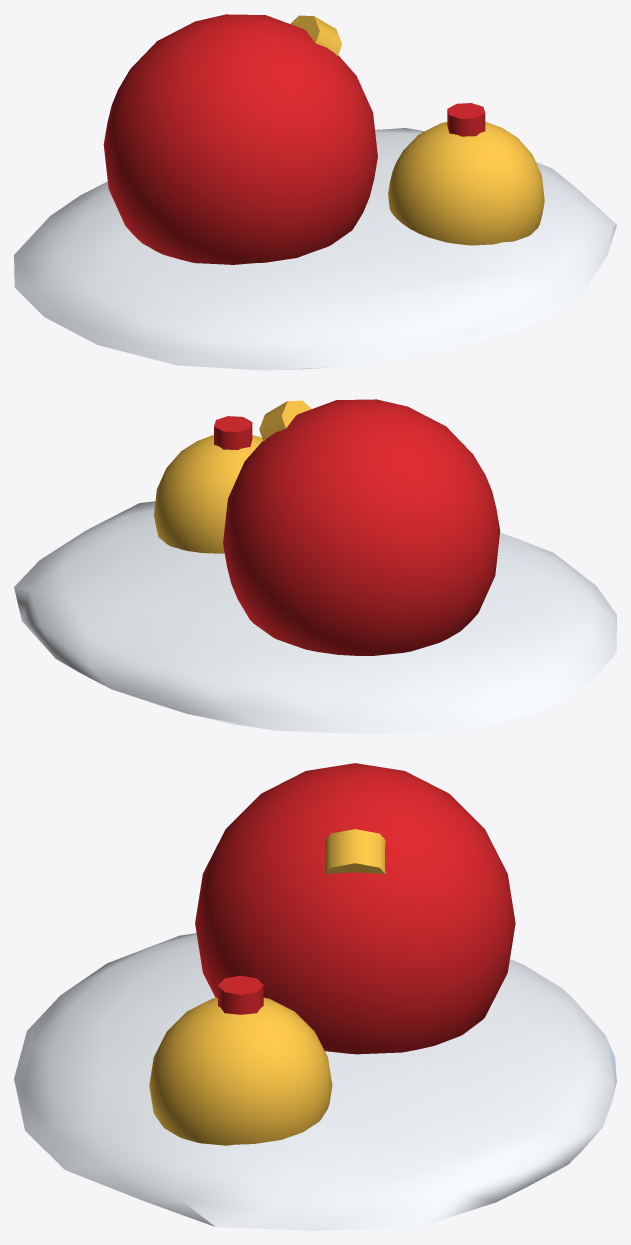
Rendered from BigBauble.fbx.
3 views of the same model, one above another, from view 1: azimuth 30°, elevation 25°; view 2: azimuth 150°, elevation 25°; view 3: azimuth 270°, elevation 25° (orthographic). The views are drawn at different scales.
Visible parts, largest first — view 1: BigBauble; view 2: BigBauble; view 3: BigBauble.
Part boxes in pixels (x1,y1,x2,y2): BigBauble: (14, 14, 616, 370); BigBauble: (14, 399, 616, 734); BigBauble: (14, 763, 616, 1230).
Bounding box in the file's own units: 1.87 × 0.84 × 1.58.
Materials: 1 (1 with a texture image).
